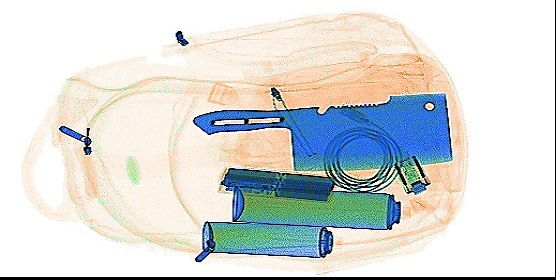knife: (190, 89, 453, 171)
powerbank: (215, 164, 335, 204)
pressure: (229, 181, 412, 231), (199, 218, 334, 257)
